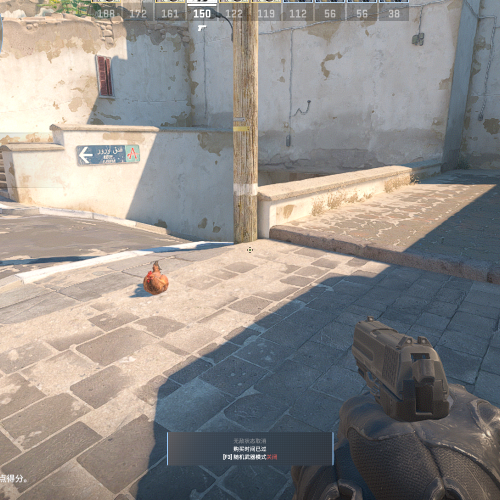chicken: (141, 262, 168, 296)
